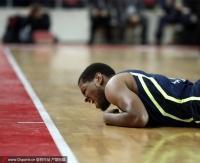Fall-Detected: (72, 47, 195, 133)
